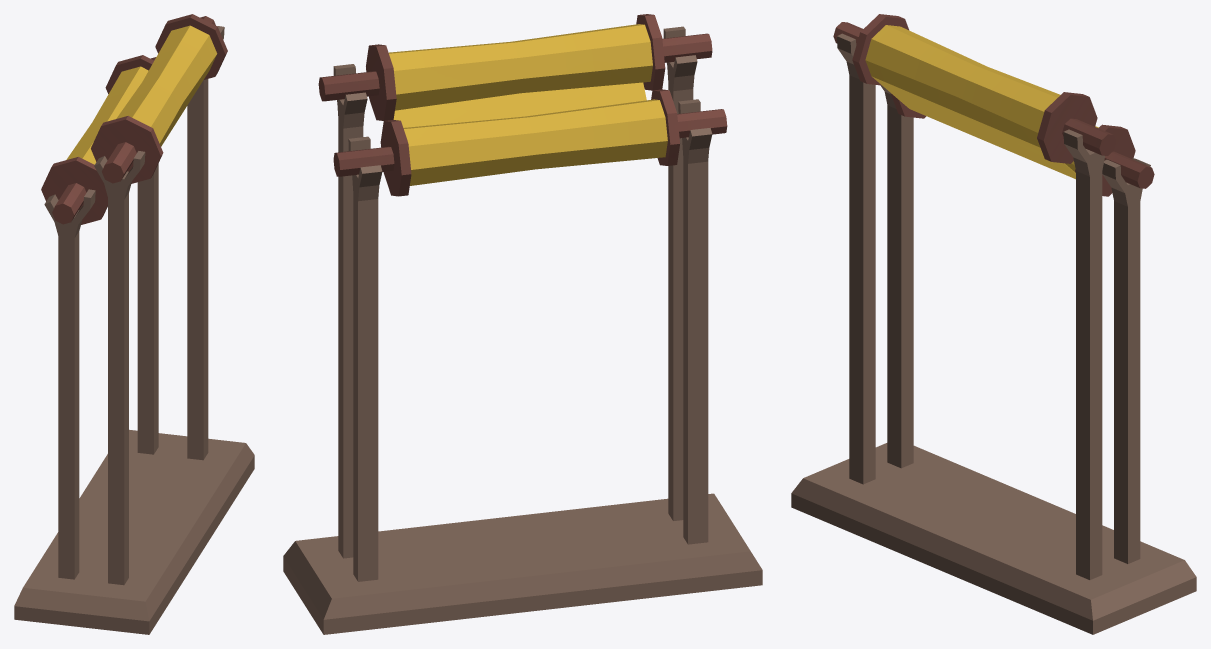
File: Scroll.fbx
3 renders of one model, left to right at view 1: azimuth 30°, elevation 25°; view 2: azimuth 150°, elevation 25°; view 3: azimuth 270°, elevation 25°, orthographic. The views are drawn at different scales.
Visible parts, largest first — view 1: Scroll; view 2: Scroll; view 3: Scroll.
Boxes of the visible parts, x1,y1,x2,y2 form: Scroll: (14,14,254,634); Scroll: (283,14,762,634); Scroll: (791,14,1196,634).
Bounding box in the file's own units: 108 × 148 × 108.
